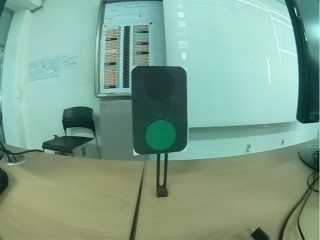green_light: (138, 72, 190, 152)
